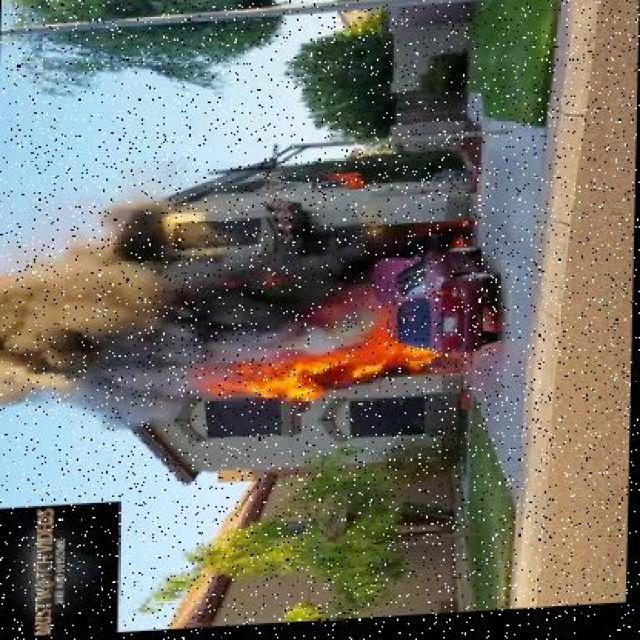fire: (154, 226, 474, 438)
